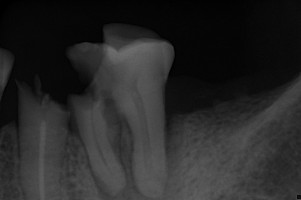Dental Caries: (91, 113, 186, 200)
